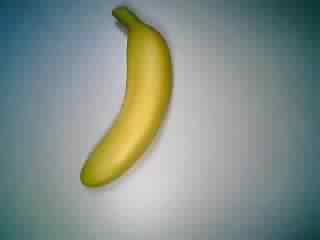banana: (73, 5, 177, 192)
